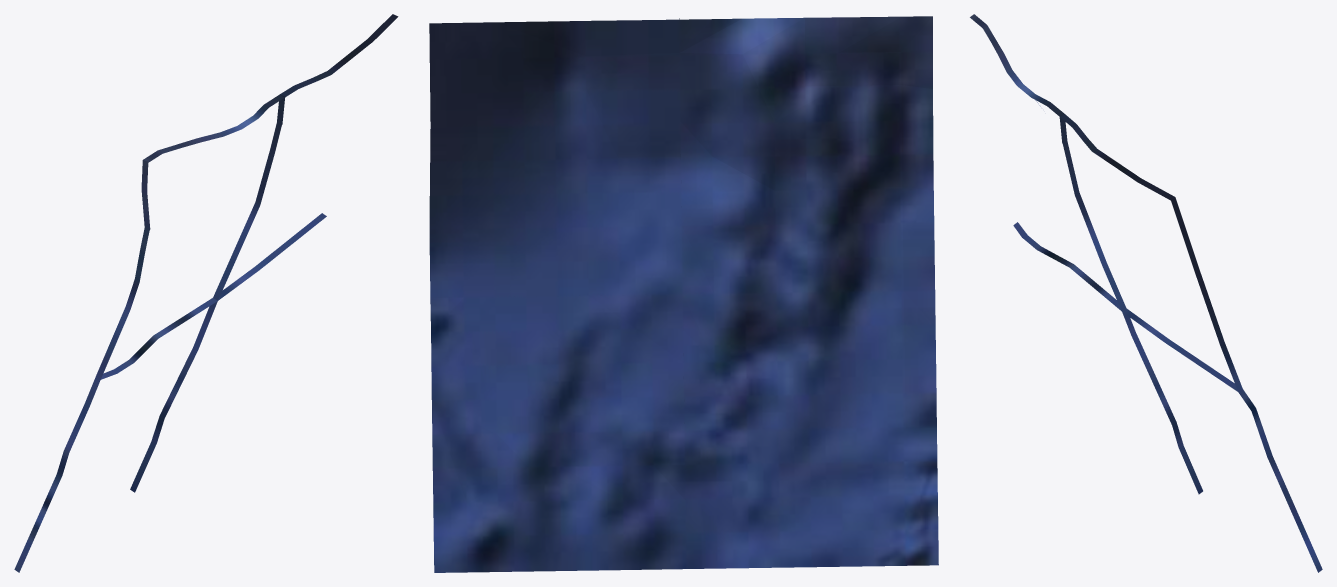
The picture shows the model from 3 angles, left to right: view 1: azimuth 30°, elevation 25°; view 2: azimuth 150°, elevation 25°; view 3: azimuth 270°, elevation 25°; orthographic projection. The views are drawn at different scales.
Size of the model in its own units: 19216 by 19204 by 14406.
Materials: 1 (1 with a texture image).
